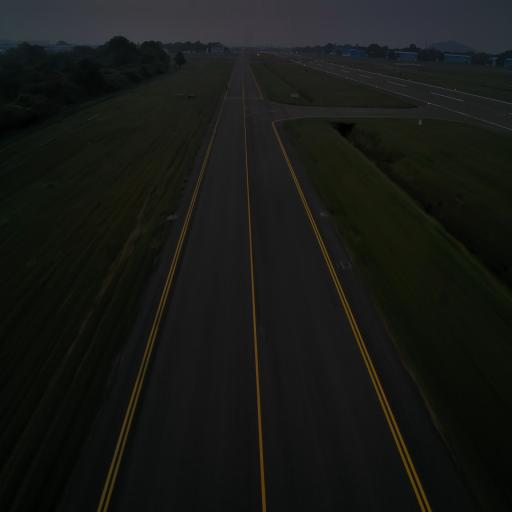on: (320, 208, 324, 214), (174, 211, 176, 217), (209, 122, 211, 126), (278, 122, 280, 125)
